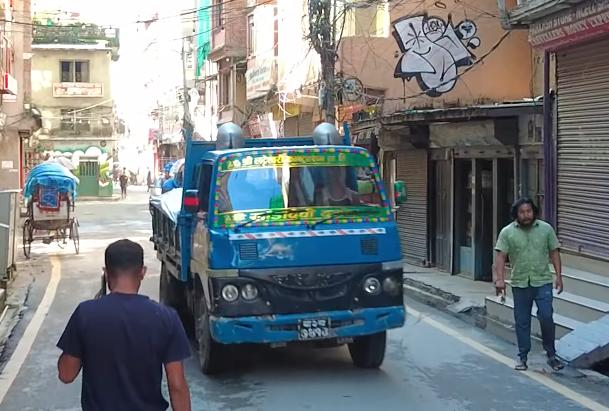mini_truck: (142, 120, 402, 374)
